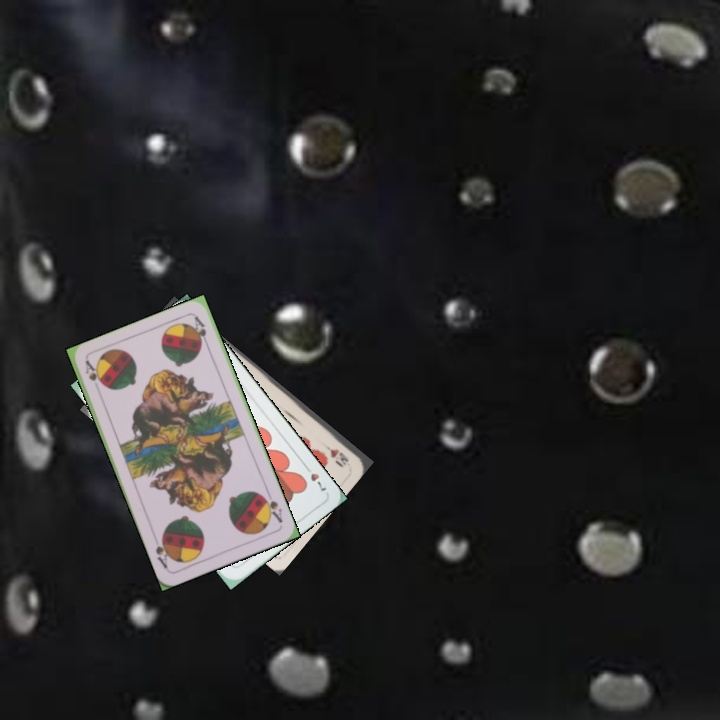H10: (317, 437, 351, 467)
H7: (300, 460, 329, 494)
SA: (257, 488, 285, 525), (81, 356, 104, 387)
